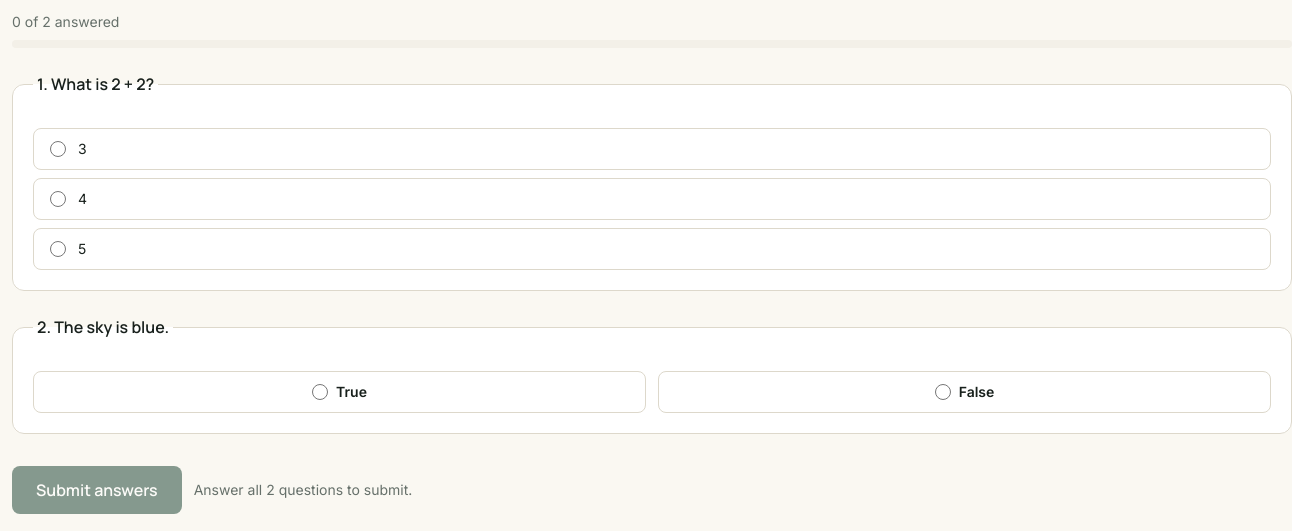
Test: Quiz › persists best score across a second render (localStorage)
This screenshot has width=1292, height=531.
Earlier steps of the test are not shown.
Step 1. Click the radio button labelled "3" → (58, 149), box [50,141,66,157]
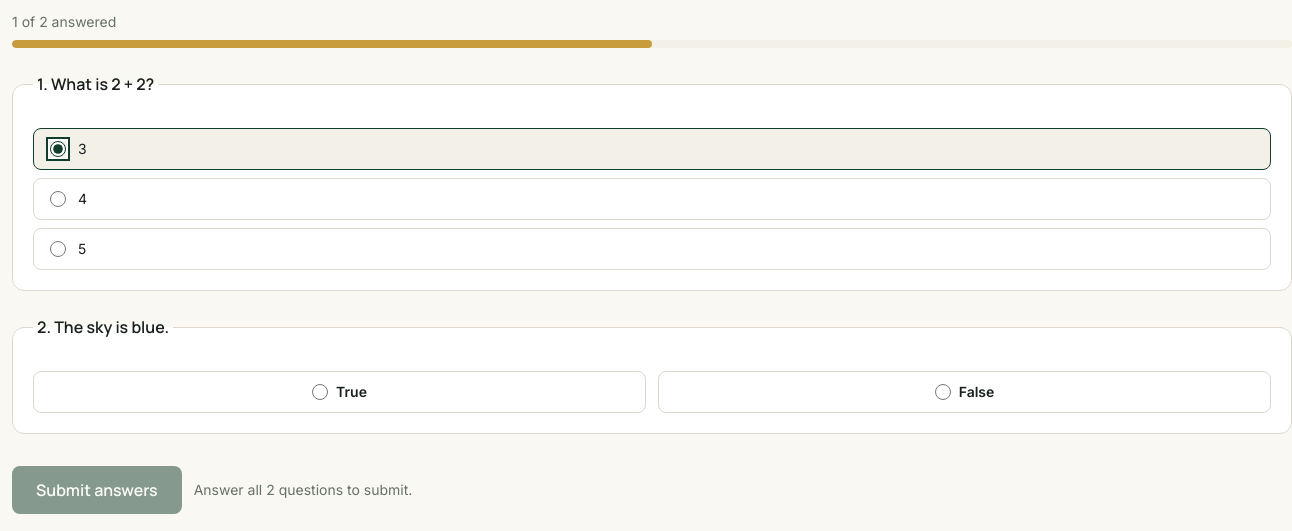
Step 2. Click the radio button labelled "False" → (943, 392), box [935,384,951,400]
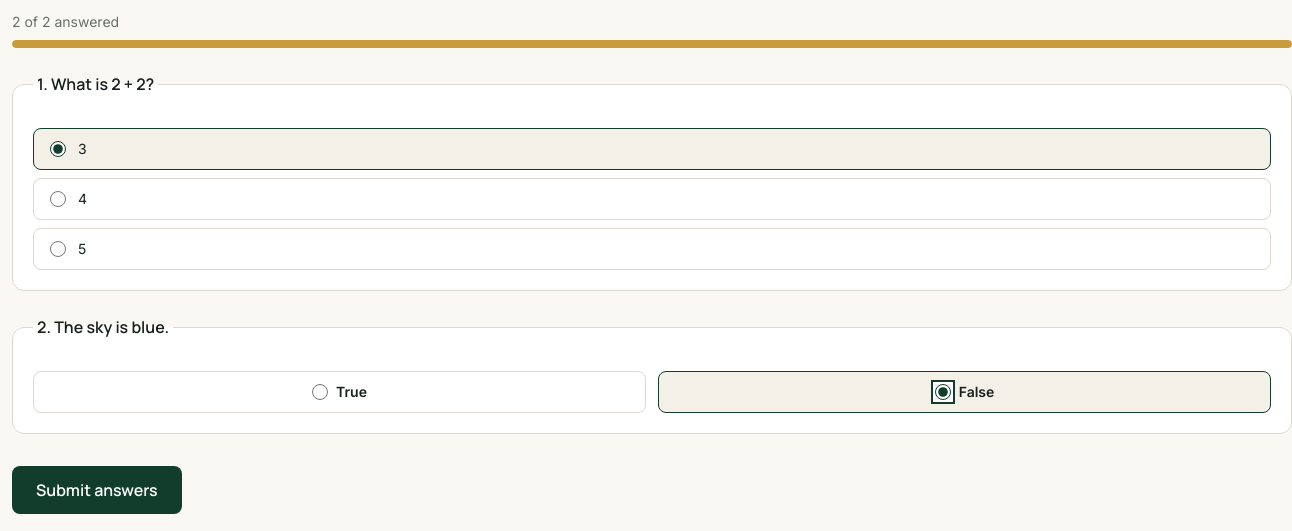
Step 3. Click the button "Submit answers" → (97, 490), box [12,466,182,514]
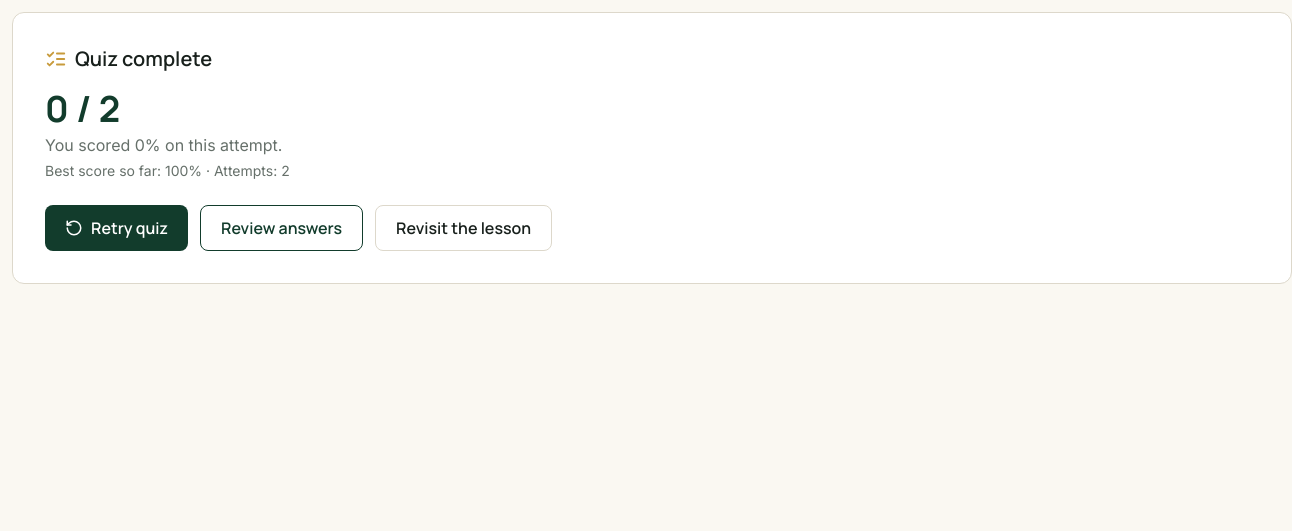
Expected: the text "Best score so far: 100% · Attempts: 2" is shown, [45,162,290,179]
